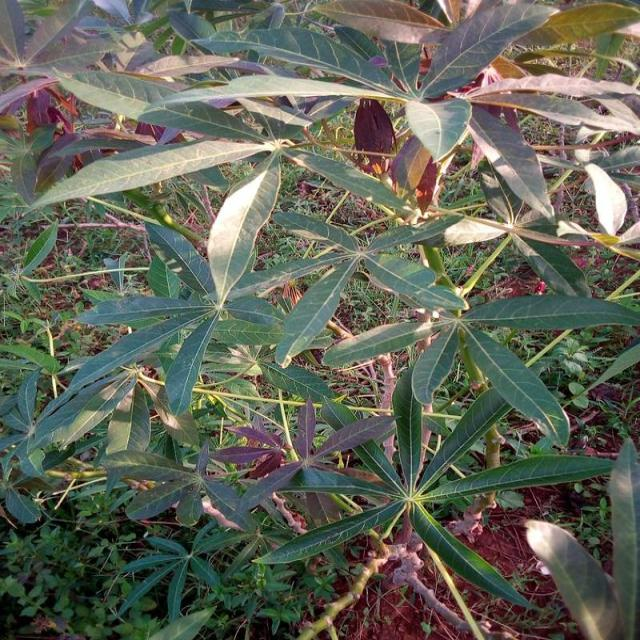cassava leaf: (2, 1, 638, 636), (206, 159, 280, 305)
